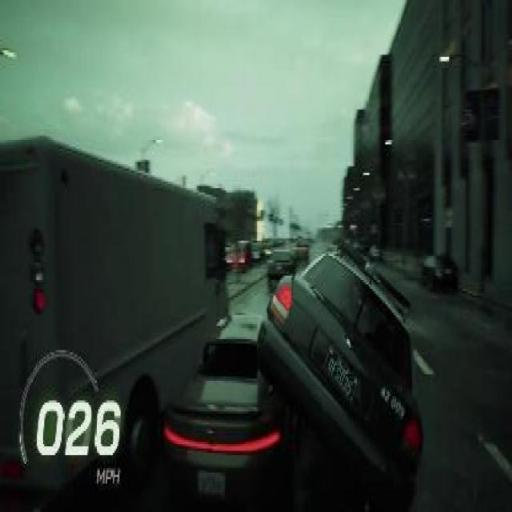小汽车: (258, 244, 302, 290)
小汽车撞小汽车: (0, 147, 270, 498), (166, 255, 420, 495)
